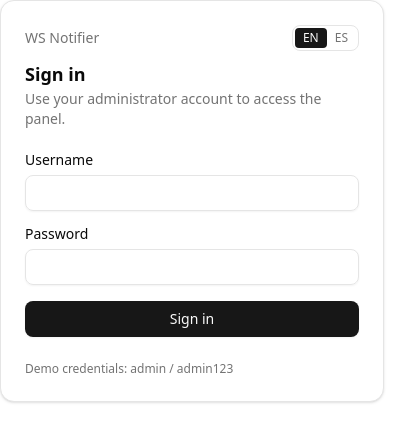
Test: <LoginForm /> › valida el campo al salir de él (blur), antes de enviar
Click the field labelled "Username": coordinates (192, 193) [25,175,359,211]
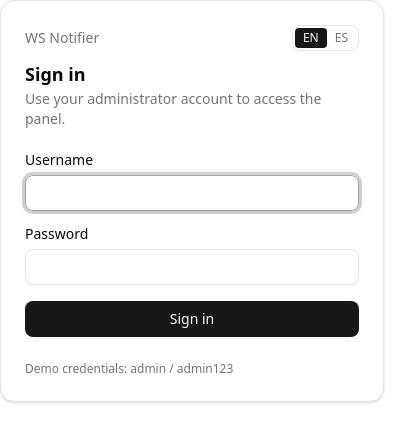
Press Tab
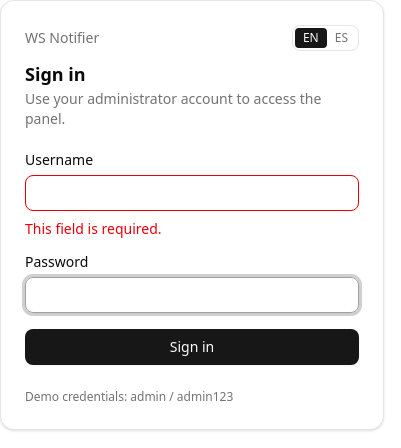
Now the text "This field is required." is shown, box [25,219,162,238]
